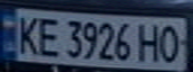2: (97, 19, 118, 62)
3: (60, 17, 84, 60)
6: (112, 19, 139, 62)
9: (78, 18, 100, 61)
E: (33, 14, 63, 57)
H: (136, 20, 163, 63)
K: (12, 12, 42, 55)
O: (157, 21, 187, 63)
